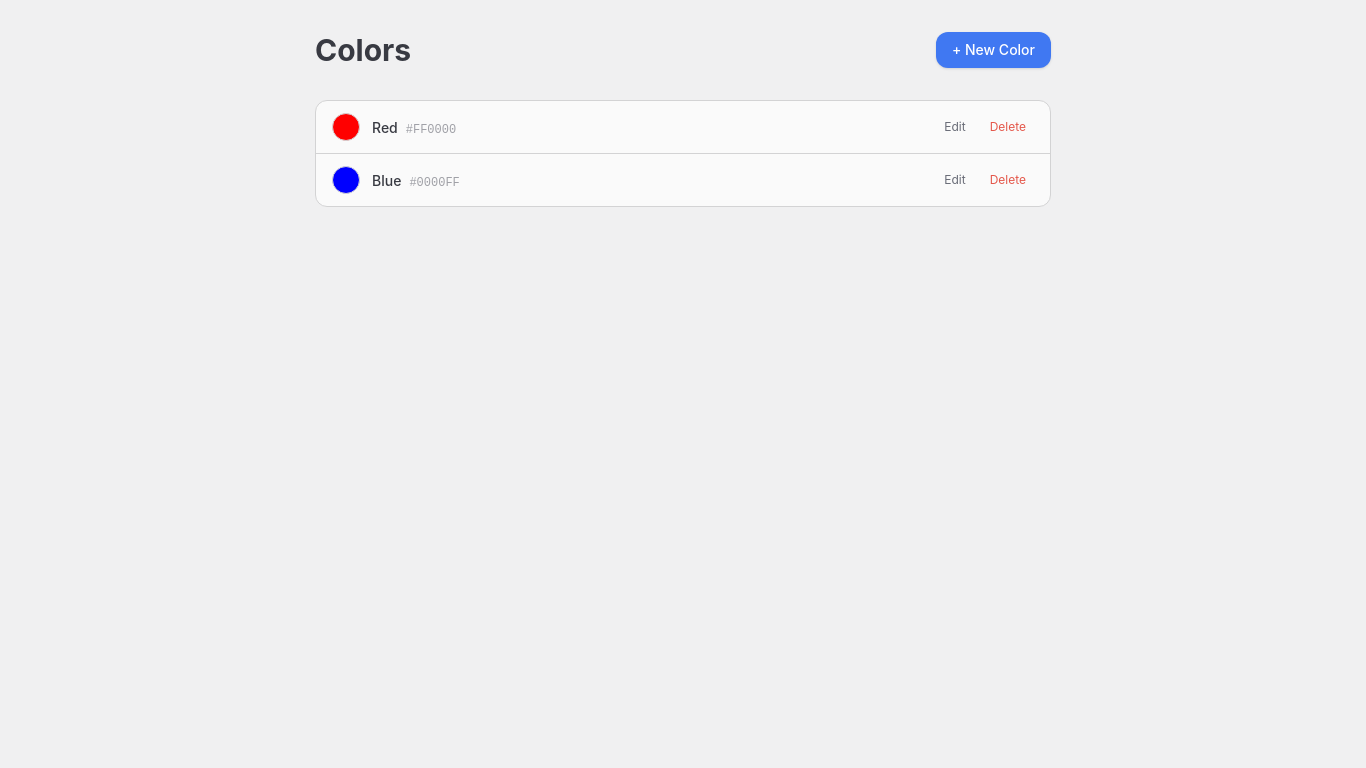
Scenario: ColorsPage › create color › keeps the modal open and shows an error when the API rejects
Expected: the text "Red" is shown, [372,119,398,136]
Click the button "+ New Color": (993,50) [936,32,1051,68]
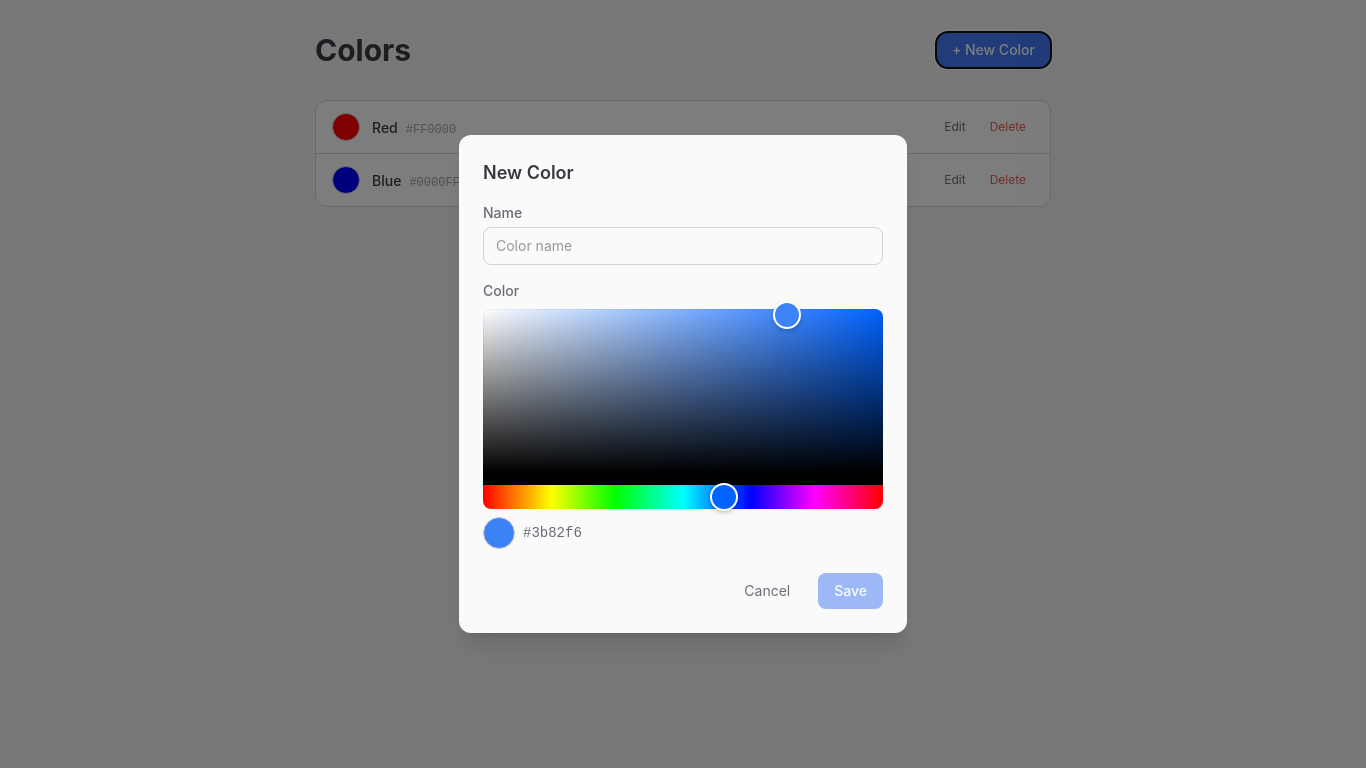
In the field with placeholder "Color name": (683,246) [483,227,883,265], type "duplicate"
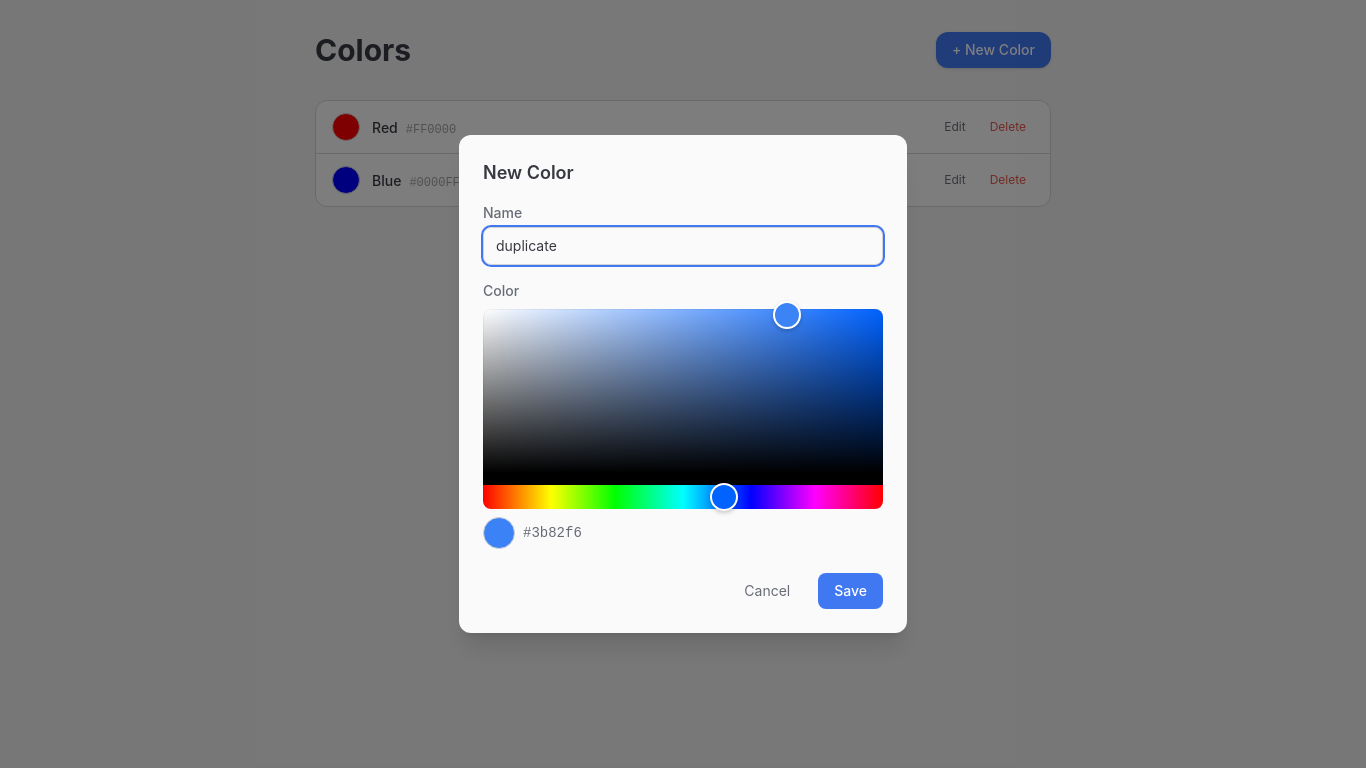
Click the button "Save": (851,591) [818,573,883,609]
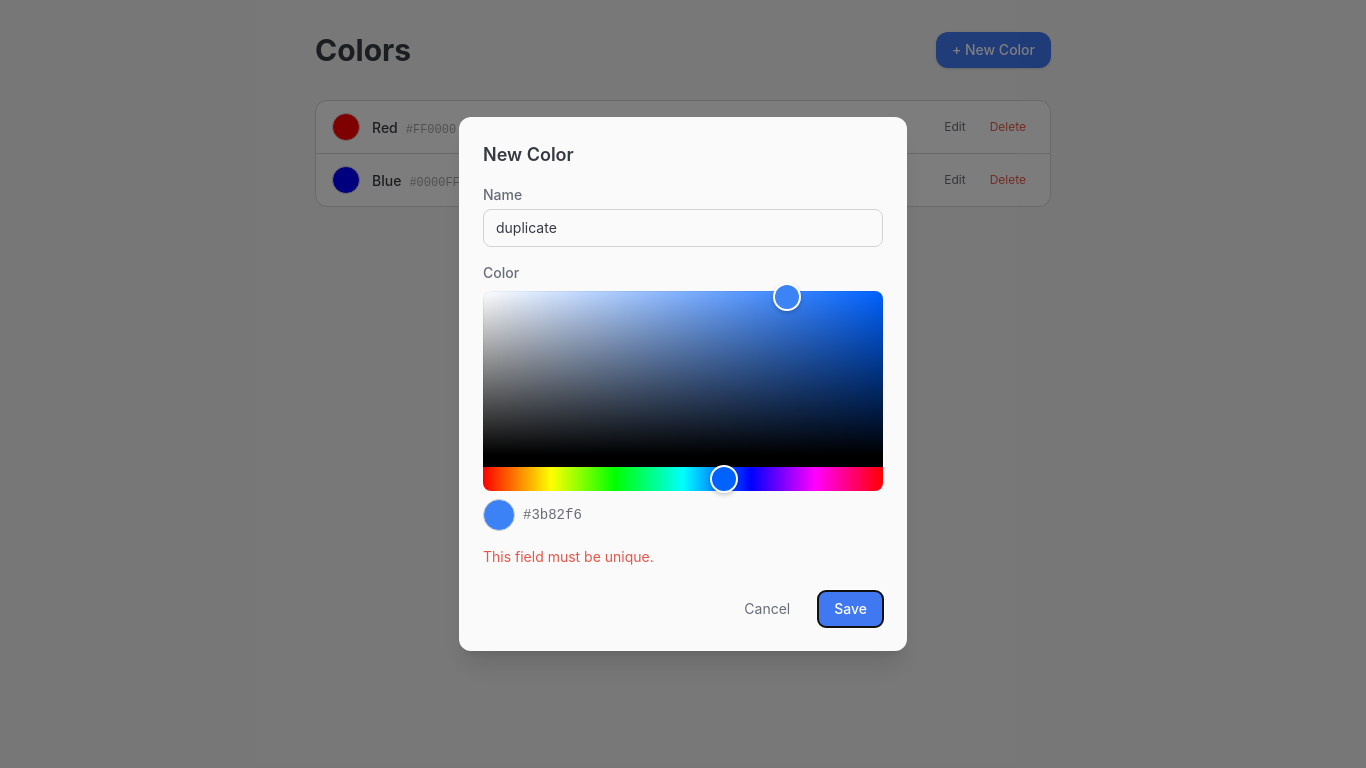
Now the heading "New Color" is shown, box [483,144,574,165]
Now the text "This field must be unique." is shown, box [483,548,654,565]
